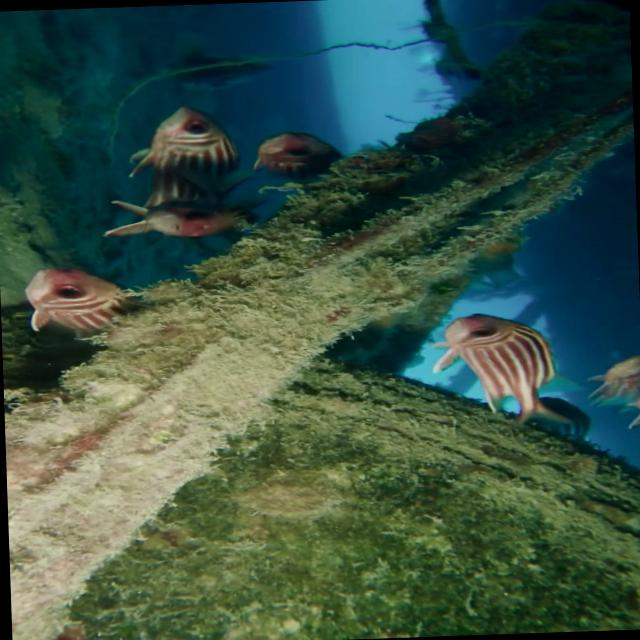Asker Baligi: (426, 308, 592, 447), (124, 99, 239, 237)
